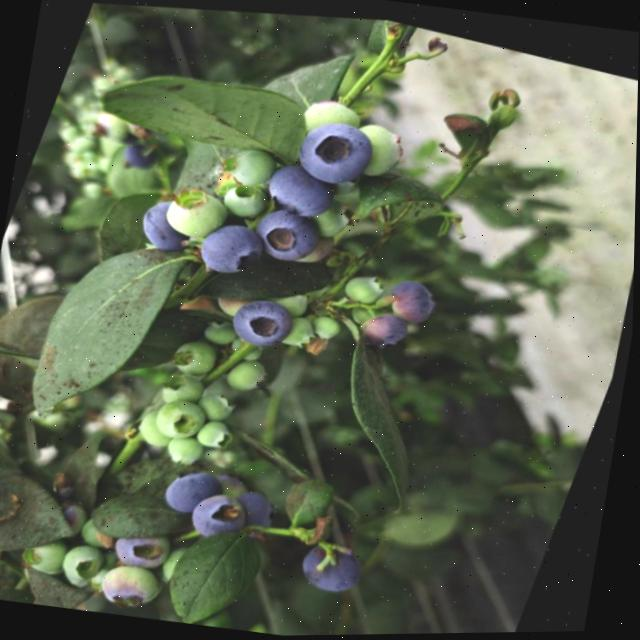RipeBlueBerry: (285, 526, 394, 618), (252, 142, 356, 236), (291, 110, 380, 187), (189, 476, 271, 557), (350, 297, 436, 372), (229, 290, 310, 355)
Semi-RipeBlueBerry: (388, 275, 443, 331)
UnripeBlueBerry: (184, 203, 275, 294), (159, 170, 238, 243), (164, 320, 235, 384), (155, 389, 221, 444), (59, 531, 118, 588)
